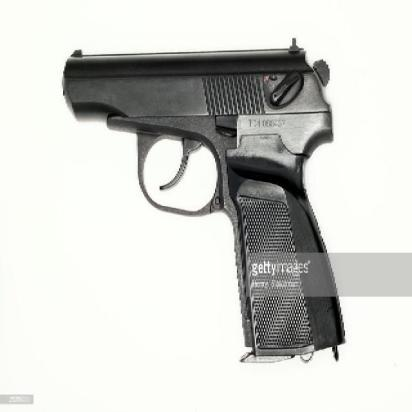Gun: (60, 41, 348, 364)
